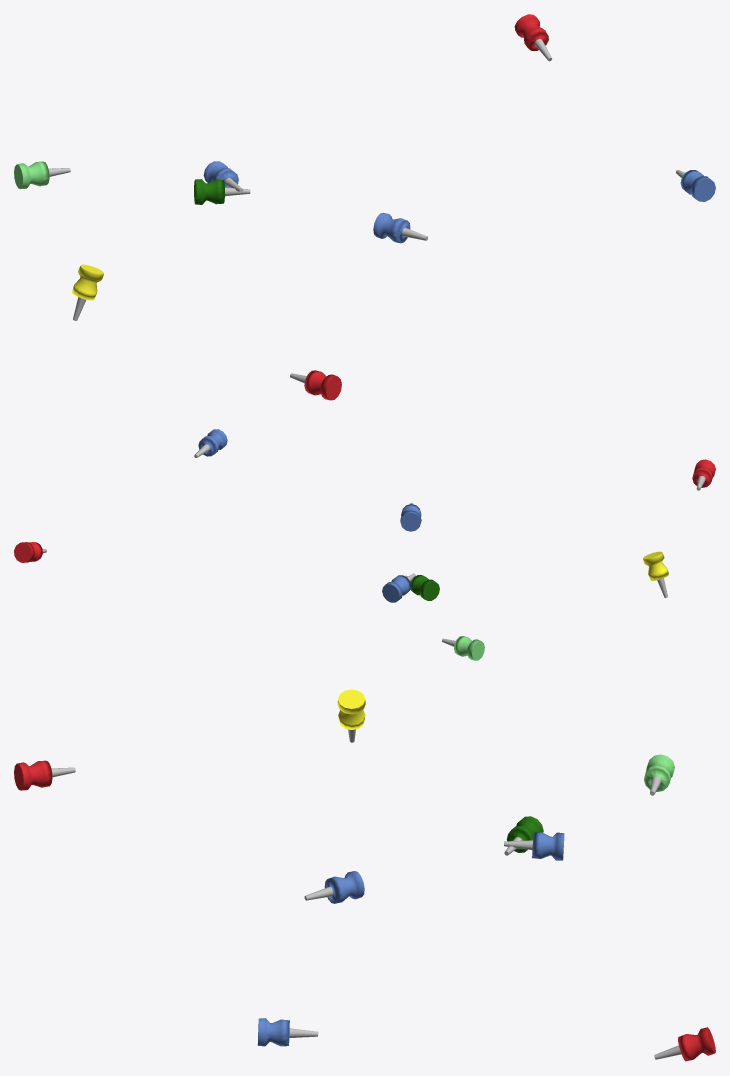
Rendered from pins.fbx.
3 renders of one model, top to bottom at view 1: azimuth 30°, elevation 25°; view 2: azimuth 150°, elevation 25°; view 3: azimuth 270°, elevation 25°, orthographic. The views are drawn at different scales.
Visible parts, largest first — view 1: pin.011, pin.014, pin.016, pin.015, pin.009, pin.013, pin.010, pin.012; view 2: pin.014, pin.015, pin.010, pin.012, pin.013, pin.009, pin.016, pin.011; view 3: pin.011, pin.016, pin.009, pin.015, pin.010, pin.012, pin.014, pin.013.
Boxes of the visible parts, x1,y1,x2,y2 form: pin.011: (373, 212, 427, 243); pin.014: (14, 161, 70, 189); pin.016: (290, 370, 341, 400); pin.015: (72, 264, 103, 320); pin.009: (514, 14, 551, 61); pin.013: (194, 179, 250, 204); pin.010: (676, 170, 715, 201); pin.012: (203, 161, 243, 192); pin.014: (442, 636, 484, 660); pin.015: (643, 551, 668, 597); pin.010: (194, 429, 227, 457); pin.012: (382, 573, 415, 602); pin.013: (404, 575, 439, 600); pin.009: (14, 542, 46, 562); pin.016: (692, 459, 715, 490); pin.011: (400, 503, 421, 531); pin.011: (304, 871, 364, 903); pin.016: (14, 760, 75, 790); pin.009: (654, 1027, 715, 1061); pin.015: (337, 689, 365, 742); pin.010: (257, 1018, 318, 1046); pin.012: (504, 832, 564, 860); pin.014: (644, 754, 674, 795); pin.013: (504, 816, 543, 855).
Bounding box in the file's own units: 7.44 × 8.37 × 0.6547.
